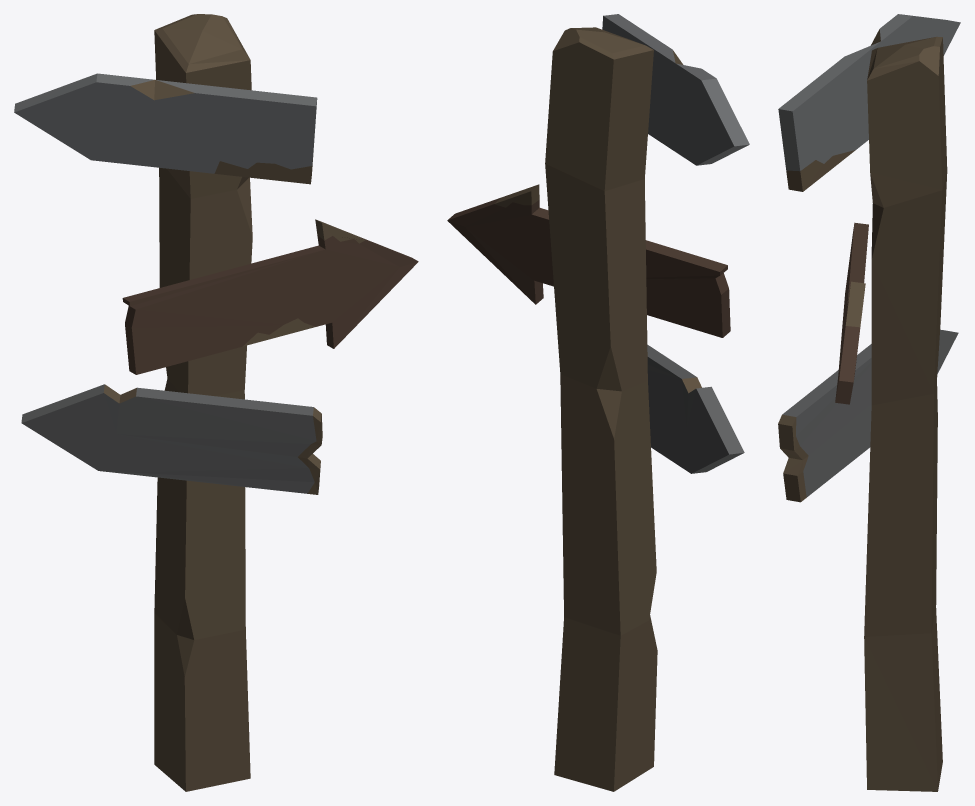
Rendered from synty-prop-roadsign-01.gltf.
3 views of the same model, side by side, from view 1: azimuth 30°, elevation 25°; view 2: azimuth 150°, elevation 25°; view 3: azimuth 270°, elevation 25° (orthographic).
Visible parts, largest first — view 1: SM_Prop_RoadSign_01; view 2: SM_Prop_RoadSign_01; view 3: SM_Prop_RoadSign_01.
Part boxes in pixels (x1=…): SM_Prop_RoadSign_01: x1=14, y1=14, x2=418, y2=791; SM_Prop_RoadSign_01: x1=447, y1=14, x2=749, y2=791; SM_Prop_RoadSign_01: x1=778, y1=14, x2=960, y2=791.
Bounding box in the file's own units: 1.16 × 2.35 × 0.5299.
Materials: 1 (1 with a texture image).
